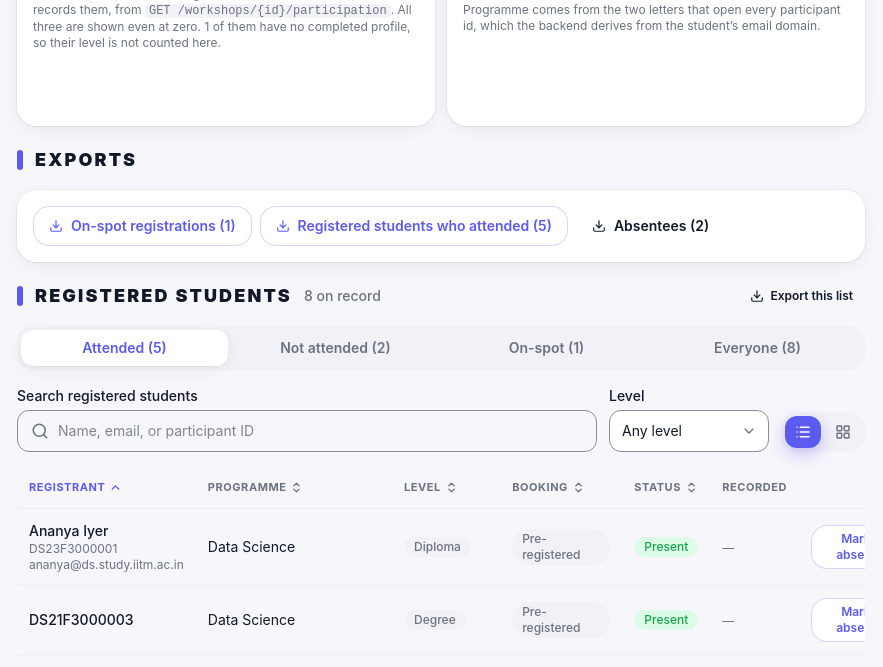
Test: WorkshopManagePage › gives an assigned volunteer the counts, the lists and the exports
The image size is (883, 667).
(page scrolled)
Check: the text "Ananya Iyer" is shown, box top-left (29, 522), bottom-right (108, 539)
Check: the button "Attended (5)" is shown, box top-left (21, 330), bottom-right (228, 366)
Click the button "Not attended (2)": (336, 348) top-left (232, 330), bottom-right (439, 366)
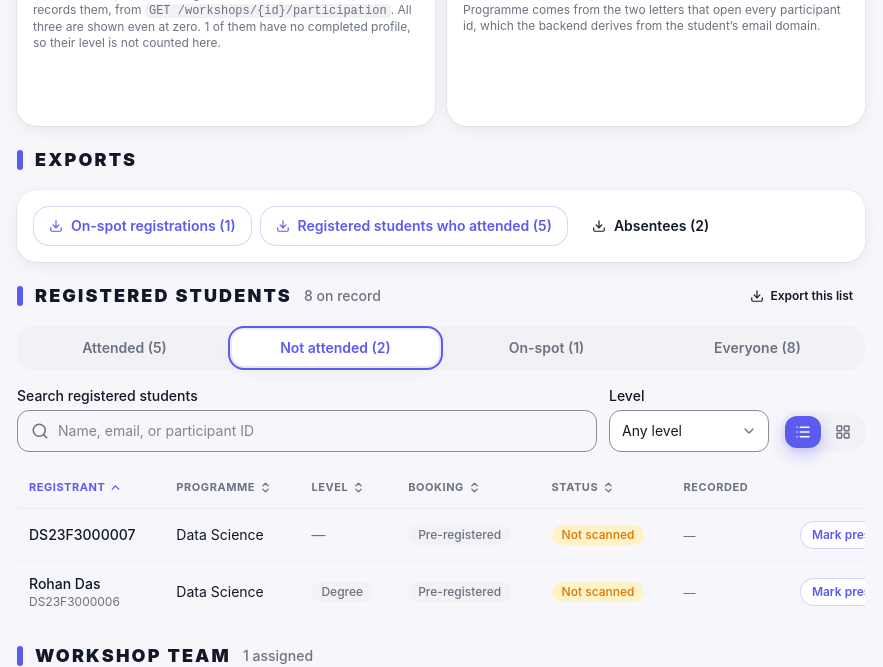
Check: the text "Rohan Das" is shown, box top-left (29, 575), bottom-right (100, 592)
Check: the text "DS23F3000007" is shown, box top-left (29, 525), bottom-right (152, 545)
Check: the text "Ananya Iyer" is gone
Click the button "On-spot (1)": (546, 348) top-left (443, 330), bottom-right (650, 366)
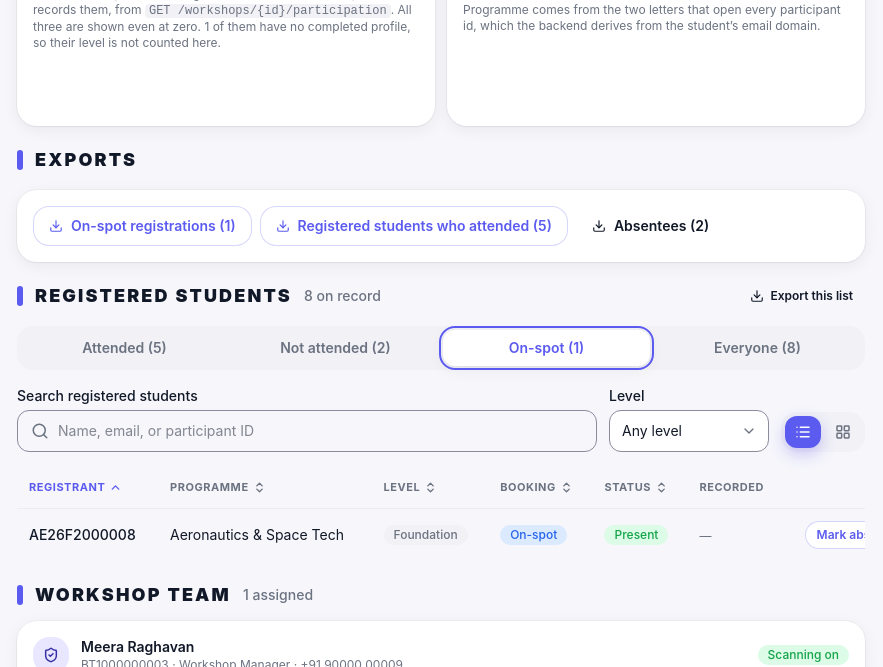
Check: the button "On-spot registrations (1)" is shown, box top-left (33, 206), bottom-right (252, 246)
Check: the text "AE26F2000008" is shown, box top-left (29, 525), bottom-right (146, 545)
